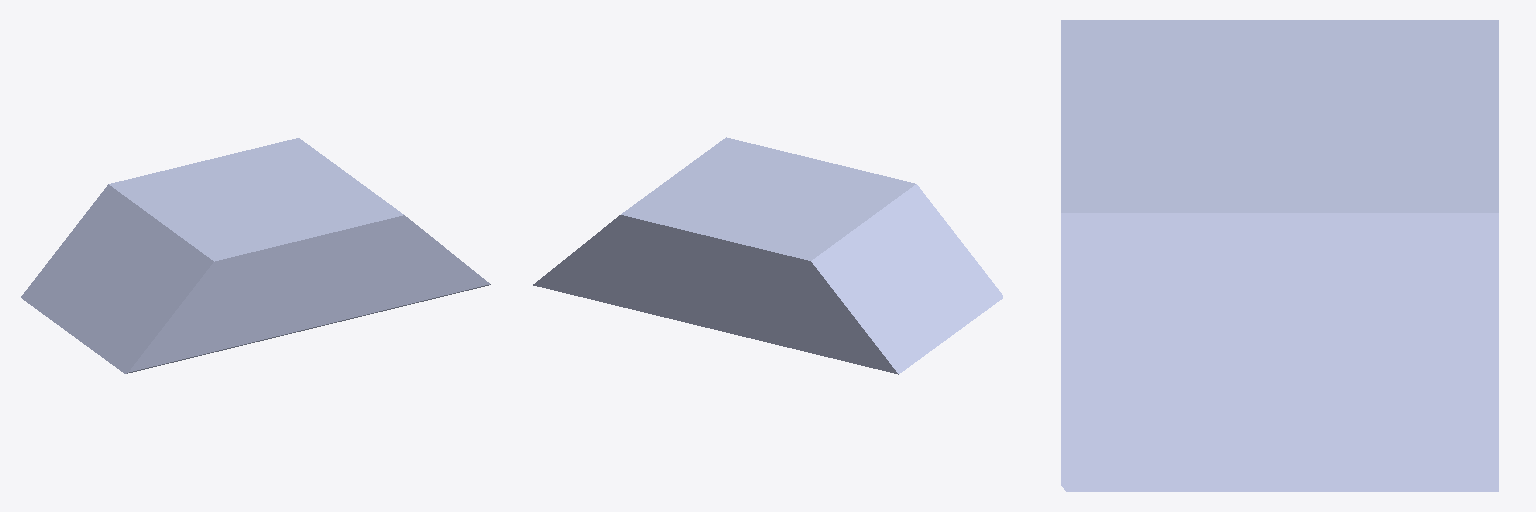
The robot description file, URDF, robot "hole.SLDPRT":
<?xml version="1.0" encoding="utf-8"?>
<!-- This URDF was automatically created by SolidWorks to URDF Exporter! Originally created by [author] ([email redacted]) 
     Commit Version: 1.5.1-0-g916b5db  Build Version: 1.5.7152.31018
     For more information, please see http://wiki.ros.org/sw_urdf_exporter -->
<robot
  name="hole.SLDPRT">
  <link
    name="hole">
    <inertial>
      <origin
        xyz="0.0 -0.025 0.0"
        rpy="0 0 0" />
      <mass
        value="5.0" />
      <inertia
        ixx="0.003"
        ixy="0.0"
        ixz="0.0"
        iyy="0.003"
        iyz="0.0"
        izz="0.003" />
    </inertial>
    <visual>
      <origin
        xyz="0 0 0"
        rpy="1.5707963267949 0 0" />
      <geometry>
        <mesh
          filename="../hole_stl/Hole_42.STL" />
      </geometry>
      <material
        name="stainless">
        <color
          rgba="0.79216 0.81961 0.93333 1" />
      </material>
    </visual>
    <collision>
      <origin
        xyz="0 0 0"
        rpy="1.5707963267949 0 0" />
      <geometry>
        <mesh
          filename="../hole_stl/Hole_42.STL" />
      </geometry>
    </collision>
  <gazebo>
    <static>true</static>
  </gazebo>

  </link>
</robot>

--- What the picture shows (computed from the rendered views, not written in the file) ---
3 views of the same robot in one strip: view 1: azimuth 30°, elevation 25°; view 2: azimuth 150°, elevation 25°; view 3: azimuth 270°, elevation 25° (orthographic).
Robot: hole.SLDPRT — 1 links, 0 joints (none); root link hole; default pose: every joint at zero.
Links seen in each view (by area): view 1: hole; view 2: hole; view 3: hole.
Link boxes in pixels (box(x1,y1,x2,y2)): hole: box(21, 138, 490, 373); hole: box(533, 137, 1002, 374); hole: box(1061, 20, 1498, 491).
Size in the robot's own frame: 0.1 by 0.05 by 0.024 metres.
Meshes: 1 distinct files referenced, 1 mesh visuals loaded (1 binary STL).